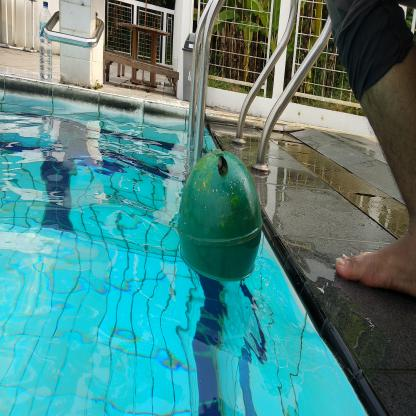green_buoy: (176, 151, 268, 286)
